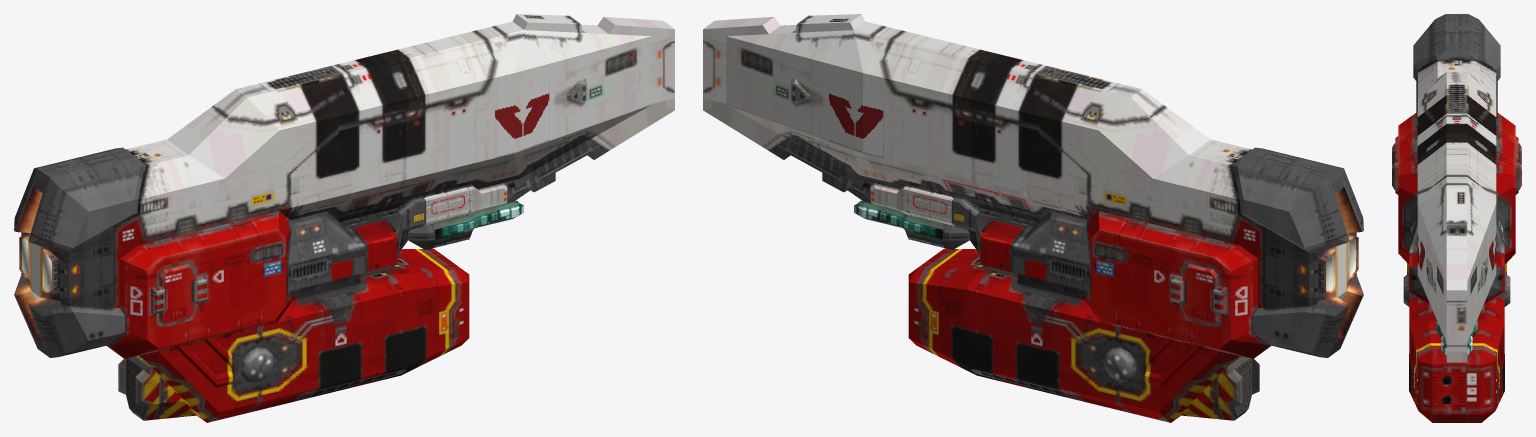
File: Eriax_EC1_SWACS.FBX
3 views of the same model, side by side, from view 1: azimuth 30°, elevation 25°; view 2: azimuth 150°, elevation 25°; view 3: azimuth 270°, elevation 25° (orthographic). The views are drawn at different scales.
Parts seen in each view (by area): view 1: Minelayer Corvette; view 2: Minelayer Corvette; view 3: Minelayer Corvette.
Part boxes in pixels (box(x1,y1,x2,y2)): Minelayer Corvette: box(14, 14, 674, 422); Minelayer Corvette: box(703, 14, 1363, 422); Minelayer Corvette: box(1392, 14, 1521, 422).
Bounding box in the file's own units: 33.94 × 15.62 × 6.6.
